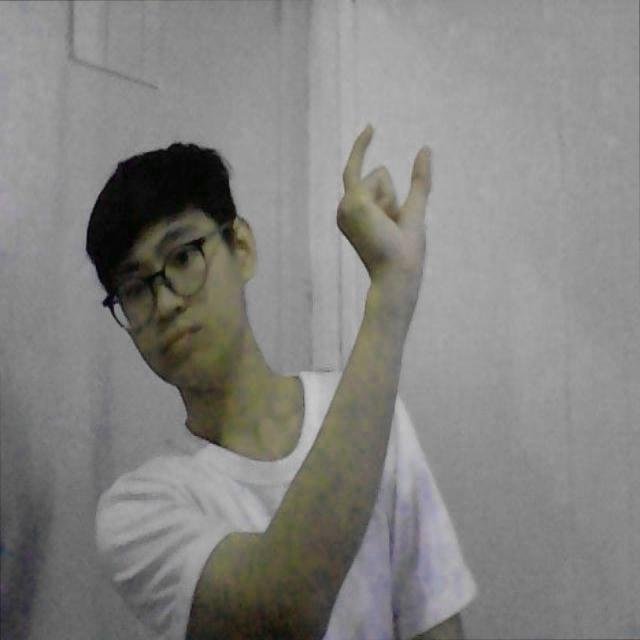U: (330, 110, 441, 255)
